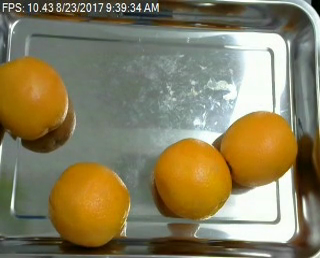Orange: (48, 162, 130, 247), (154, 136, 232, 218), (218, 110, 298, 184), (0, 55, 69, 138)
